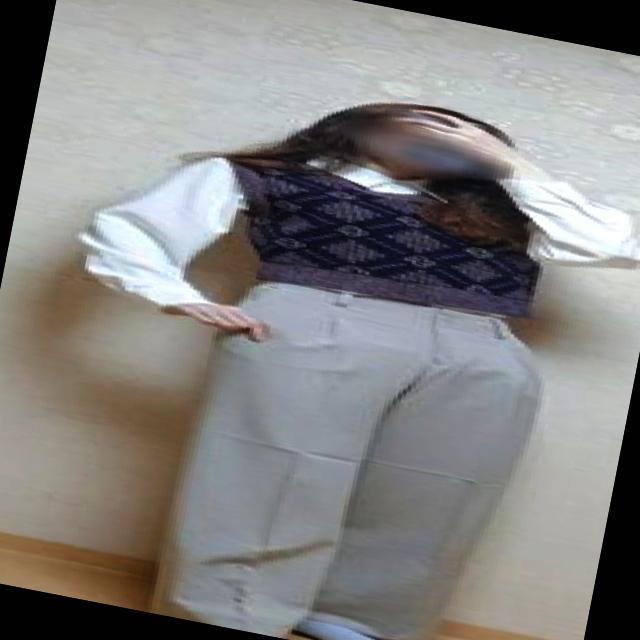cottonpants: (157, 259, 560, 640)
shirt: (55, 83, 640, 404)
